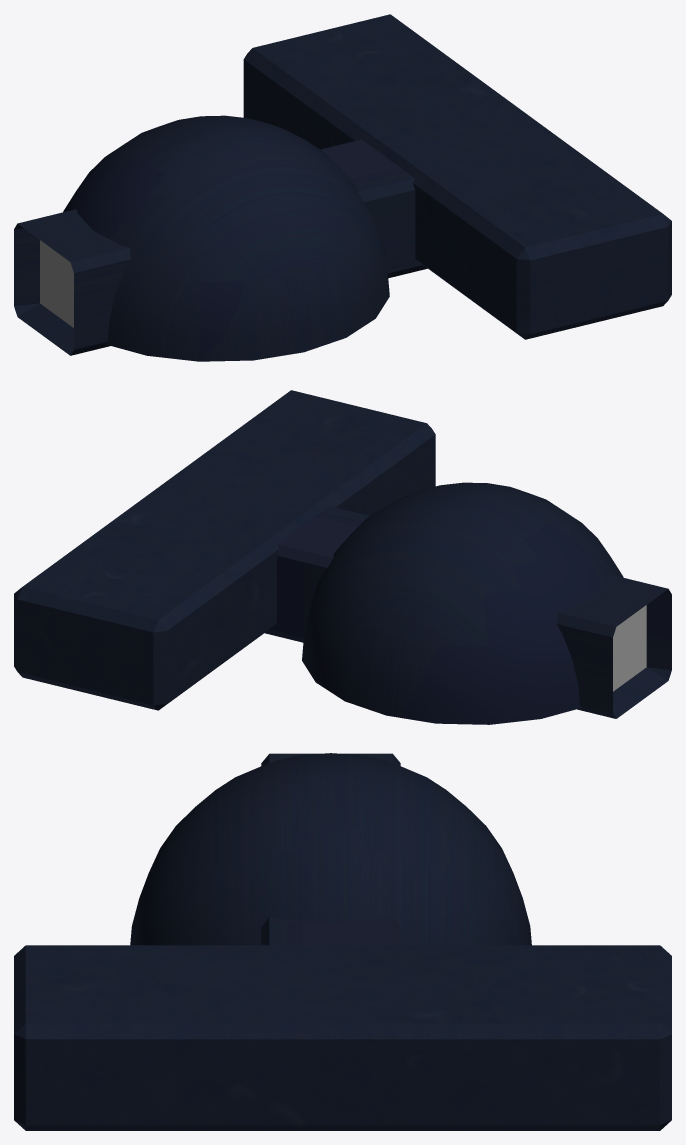
File: casita.fbx
3 views of the same model, one above another, from view 1: azimuth 30°, elevation 25°; view 2: azimuth 150°, elevation 25°; view 3: azimuth 270°, elevation 25° (orthographic). The views are drawn at different scales.
Parts seen in each view (by area): view 1: pCube2; view 2: pCube2; view 3: pCube2.
Part boxes in pixels (x1=…): pCube2: x1=14, y1=14, x2=671, y2=361; pCube2: x1=14, y1=390, x2=671, y2=724; pCube2: x1=14, y1=753, x2=671, y2=1130.
Size of the model in its own units: 5185 by 1621 by 5114.
